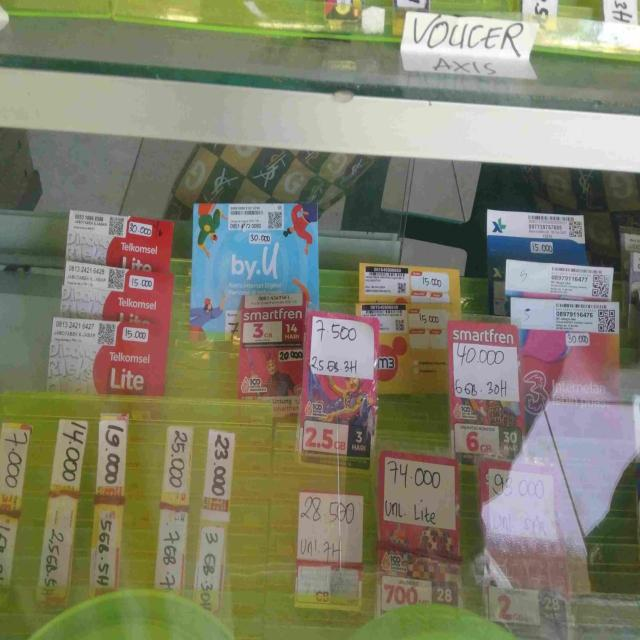Gratis Nelpon: (488, 209, 590, 307)
Indosat-3: (504, 261, 628, 406)
Telkomsel: (46, 317, 170, 395), (64, 208, 176, 268), (60, 264, 174, 320)
byu: (192, 202, 318, 339)
im3: (360, 263, 463, 389), (294, 492, 362, 611), (42, 418, 82, 598), (203, 424, 238, 602), (93, 414, 127, 585), (160, 424, 193, 589), (2, 419, 33, 584)
smartfren: (373, 458, 467, 608), (444, 322, 530, 460), (304, 314, 374, 462), (229, 288, 300, 392)
